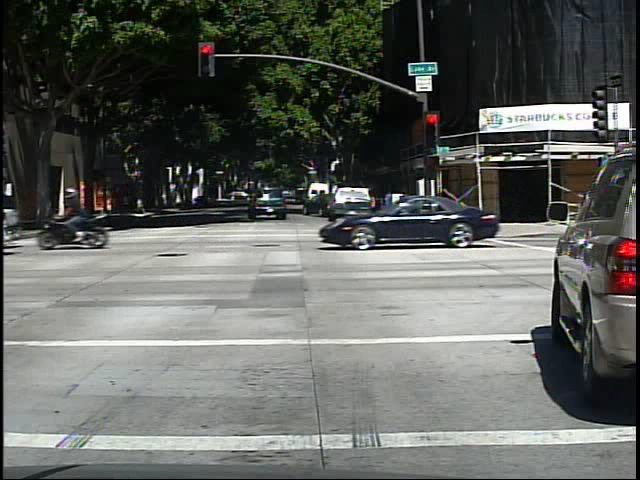person: (72, 183, 111, 244), (64, 191, 73, 220)
